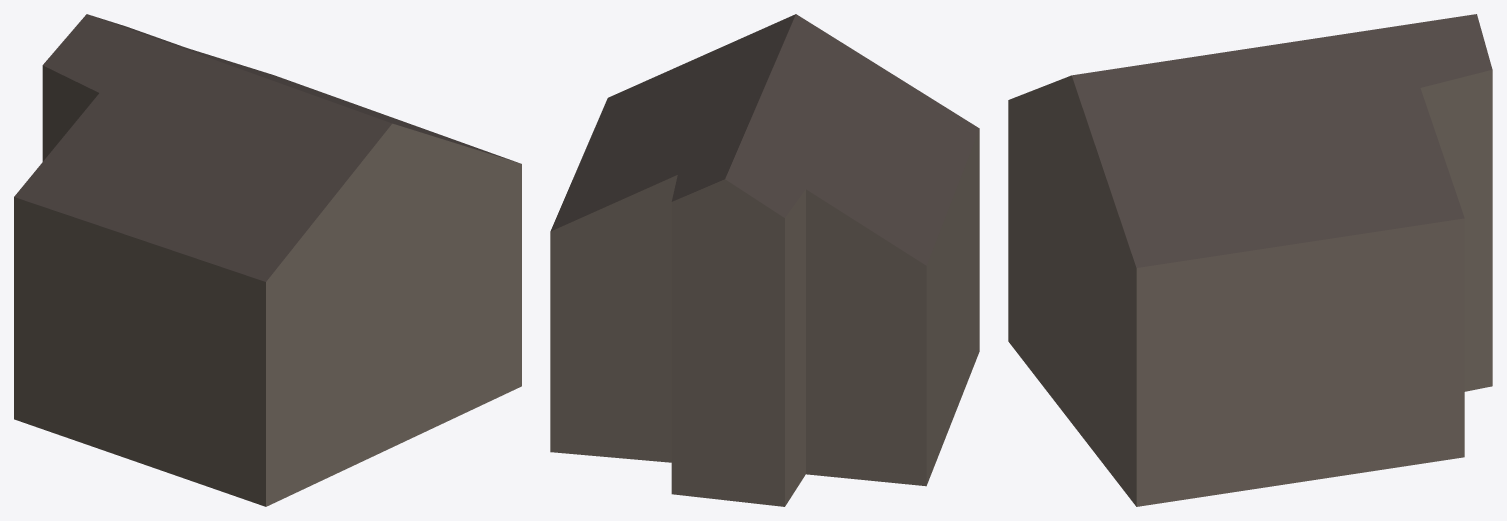
3 views of the same model, side by side, from view 1: azimuth 30°, elevation 25°; view 2: azimuth 150°, elevation 25°; view 3: azimuth 270°, elevation 25° (orthographic). The views are drawn at different scales.
Visible parts, largest first — view 1: HP-w783664780; view 2: HP-w783664780; view 3: HP-w783664780.
Part boxes in pixels (x1=…): HP-w783664780: x1=14, y1=14, x2=521, y2=506; HP-w783664780: x1=550, y1=14, x2=979, y2=506; HP-w783664780: x1=1008, y1=14, x2=1492, y2=506.
Bounding box in the file's own units: 11.71 × 8.74 × 11.02.
